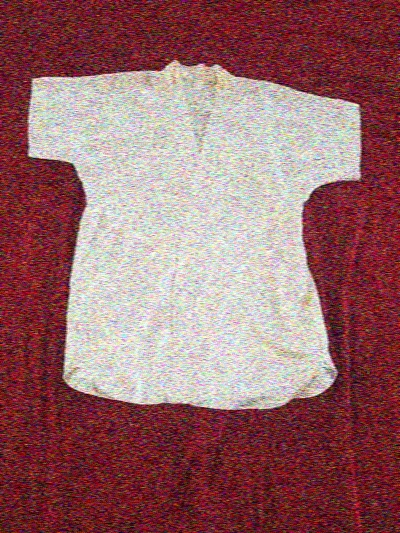Blouse: (25, 45, 370, 429)
